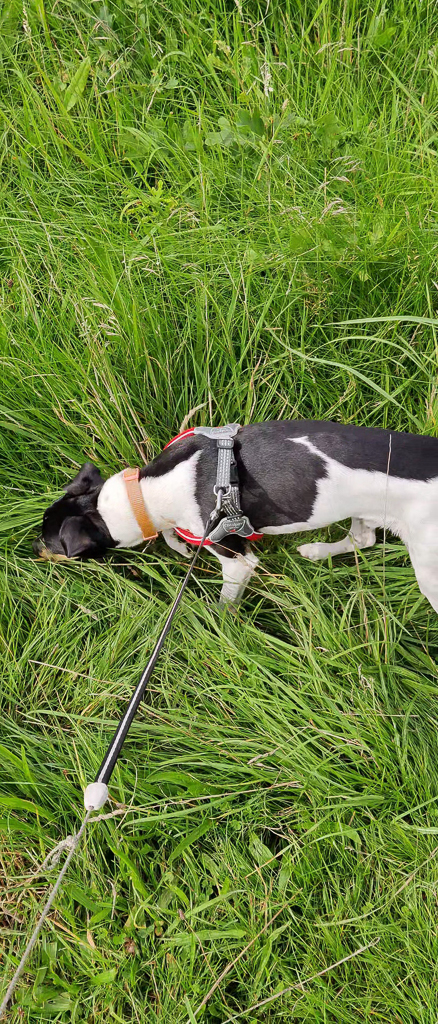Dog: (21, 405, 438, 640)
